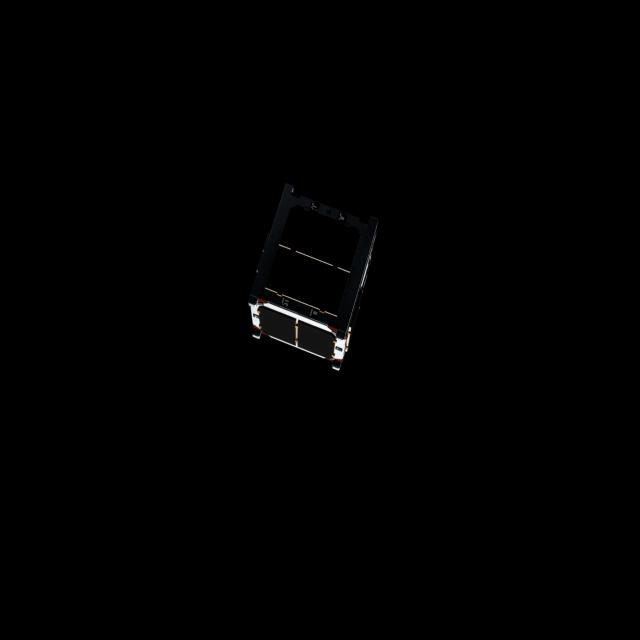satellite: (244, 181, 387, 366)
